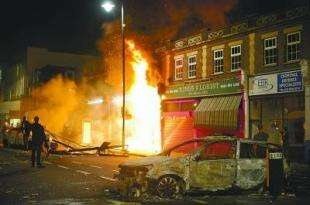fire: (117, 48, 171, 157)
